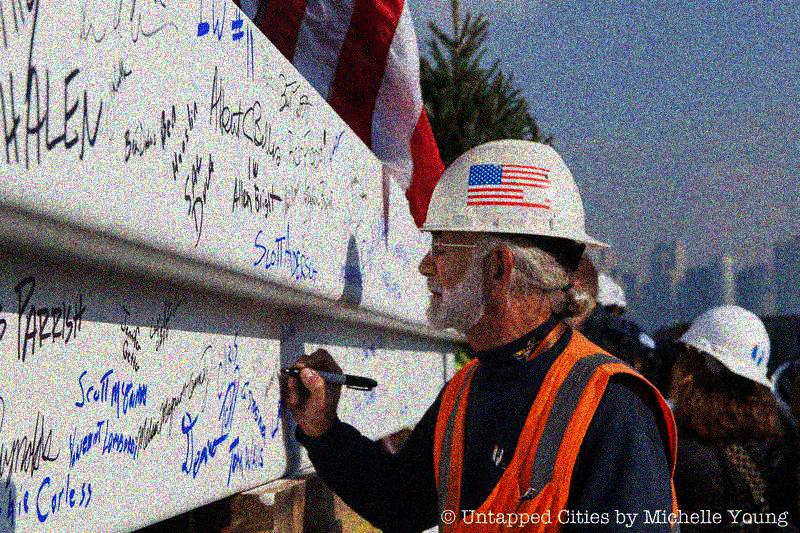helmet: (416, 139, 610, 328), (678, 303, 776, 408), (592, 271, 630, 323)
